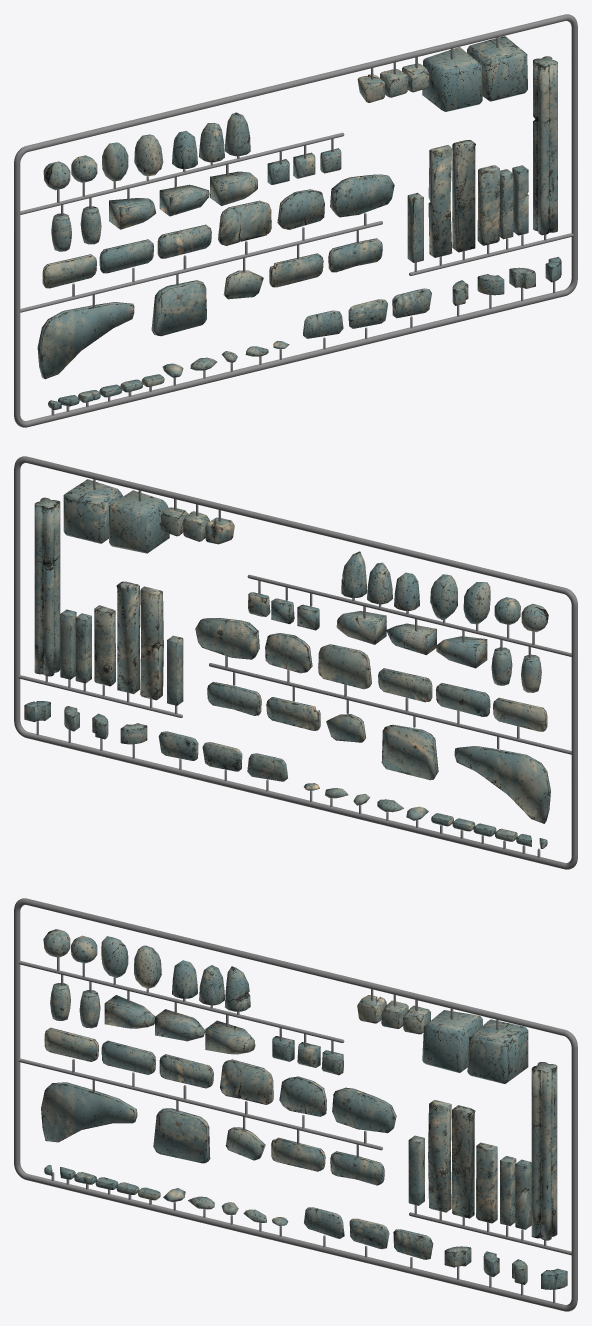
3 views of the same model, one above another, from view 1: azimuth 30°, elevation 25°; view 2: azimuth 150°, elevation 25°; view 3: azimuth 330°, elevation 25° (orthographic).
Parts seen in each view (by area): view 1: stone, Cube.001; view 2: stone, Cube.001; view 3: stone, Cube.001.
Boxes of the visible parts, box(x1,y1,x2,y2) form: stone: box(37, 36, 561, 409); Cube.001: box(14, 14, 577, 427); stone: box(24, 479, 550, 848); Cube.001: box(14, 456, 577, 869); stone: box(41, 929, 567, 1289); Cube.001: box(14, 898, 577, 1311).
Bounding box in the file's own units: 62.95 × 30.05 × 4.57.
2 materials, 1 textured.
